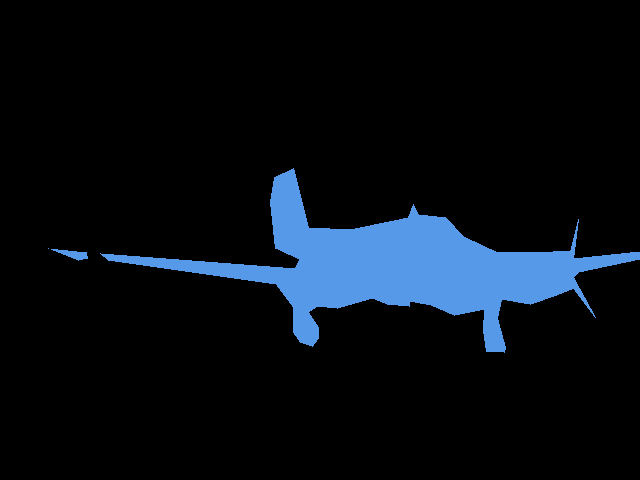Airplane: (48, 168, 640, 353)
